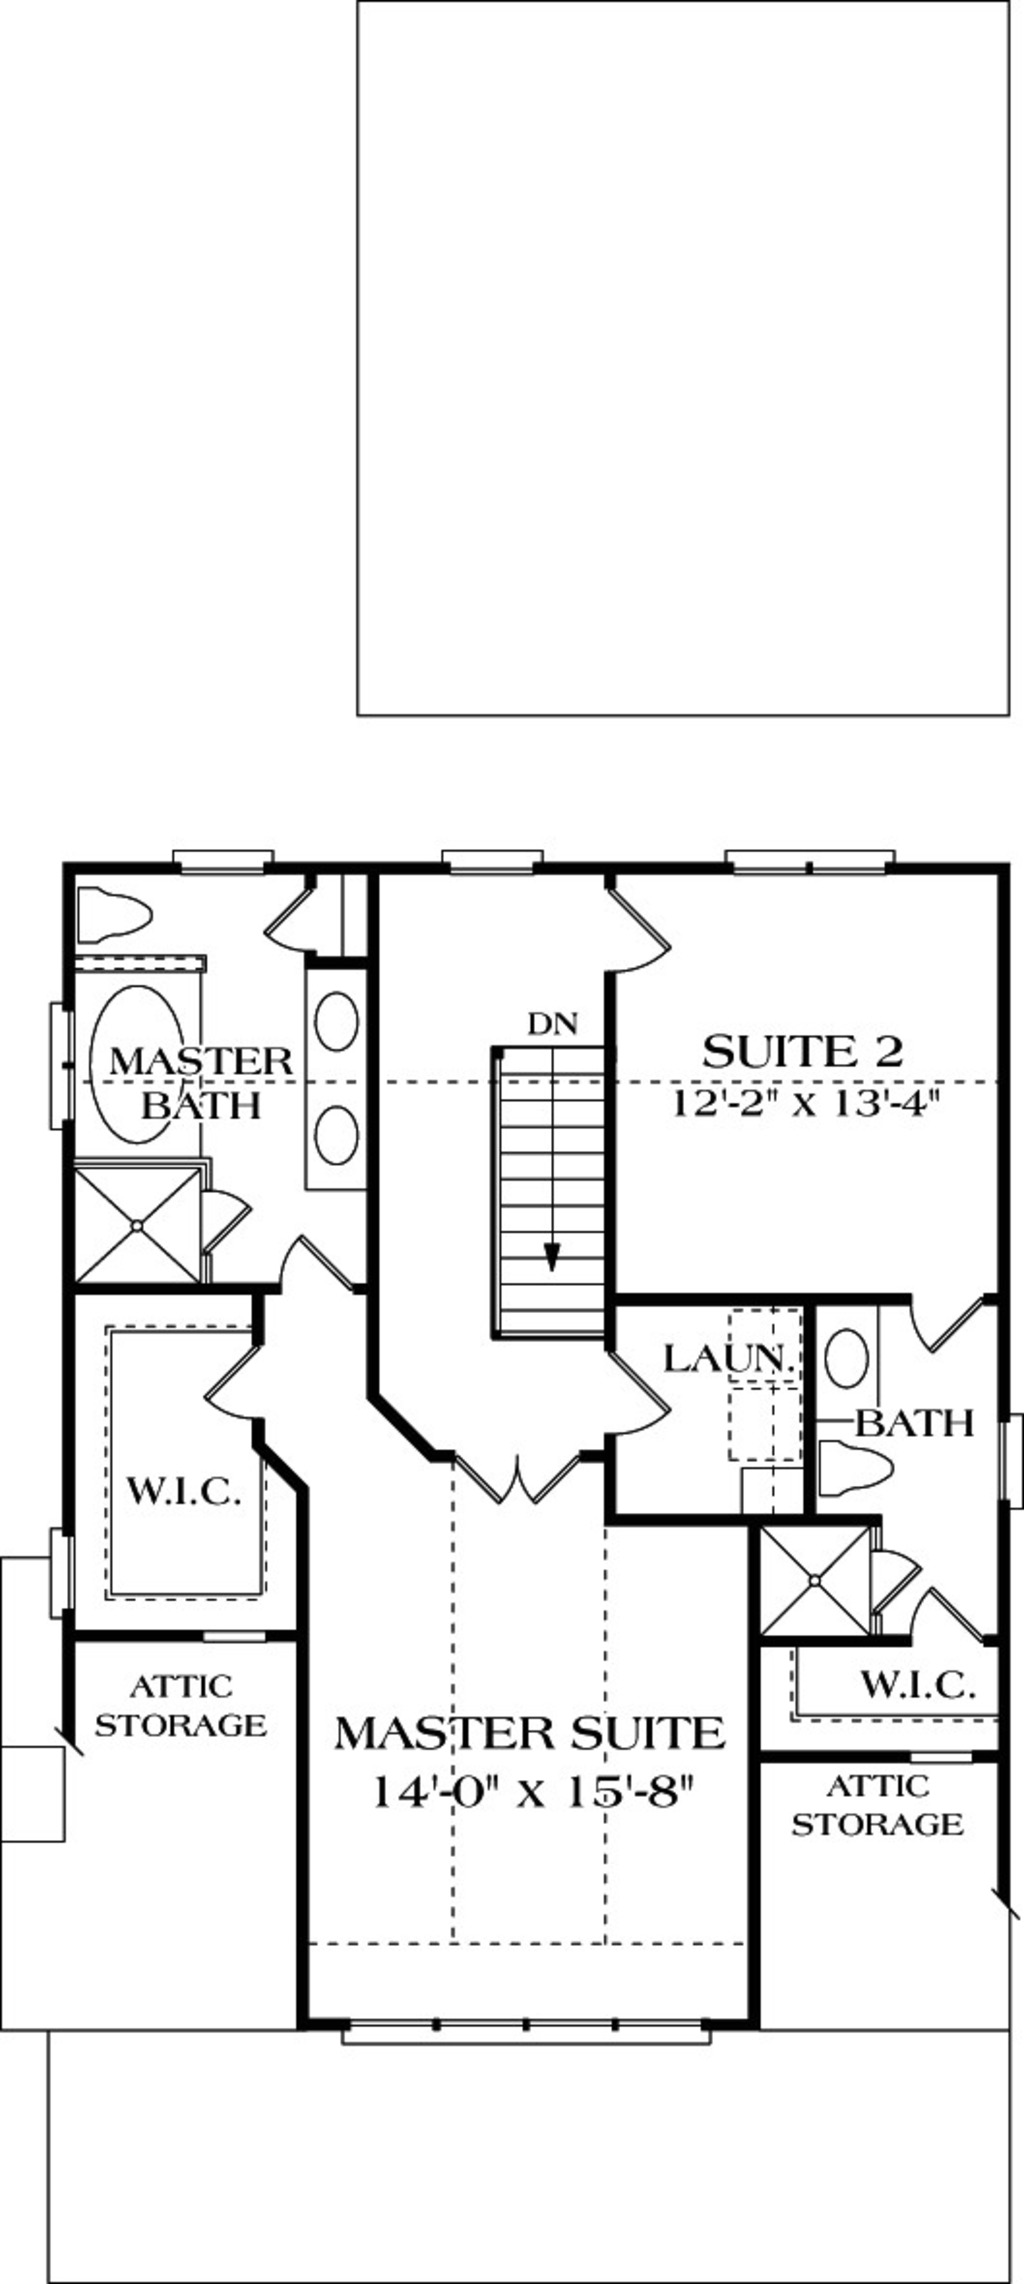door: (899, 1291, 1024, 1377), (599, 1343, 677, 1454), (889, 1583, 999, 1661), (596, 893, 674, 1001), (446, 1441, 567, 1508), (267, 1225, 353, 1311), (259, 878, 335, 972), (205, 1347, 278, 1441)
large_sink: (781, 1422, 896, 1515), (55, 873, 173, 954)
small_sink: (291, 972, 385, 1193), (806, 1311, 881, 1414)
stairs: (497, 1015, 642, 1343)
tub: (71, 974, 213, 1149)
window: (338, 1985, 724, 2061), (712, 836, 910, 883), (438, 833, 546, 900), (31, 1529, 87, 1640), (996, 1409, 1024, 1511), (197, 1629, 285, 1650)
